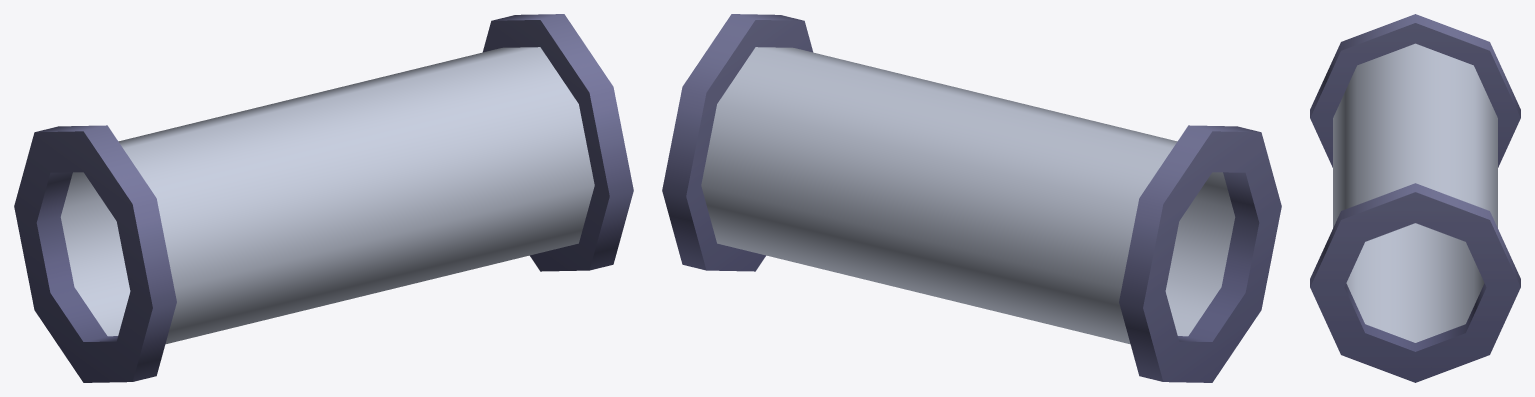
The model's file is pipe-glass-large-long.glb.
The picture shows the model from 3 angles, left to right: view 1: azimuth 30°, elevation 25°; view 2: azimuth 150°, elevation 25°; view 3: azimuth 270°, elevation 25°; orthographic projection. The views are drawn at different scales.
Parts seen in each view (by area): view 1: pipe-glass-large-long; view 2: pipe-glass-large-long; view 3: pipe-glass-large-long.
Boxes of the visible parts, x1,y1,x2,y2 form: pipe-glass-large-long: (14, 14, 633, 382); pipe-glass-large-long: (662, 14, 1281, 382); pipe-glass-large-long: (1310, 14, 1520, 382).
Size of the model in its own units: 2 by 1 by 1.
2 materials, 1 textured.
